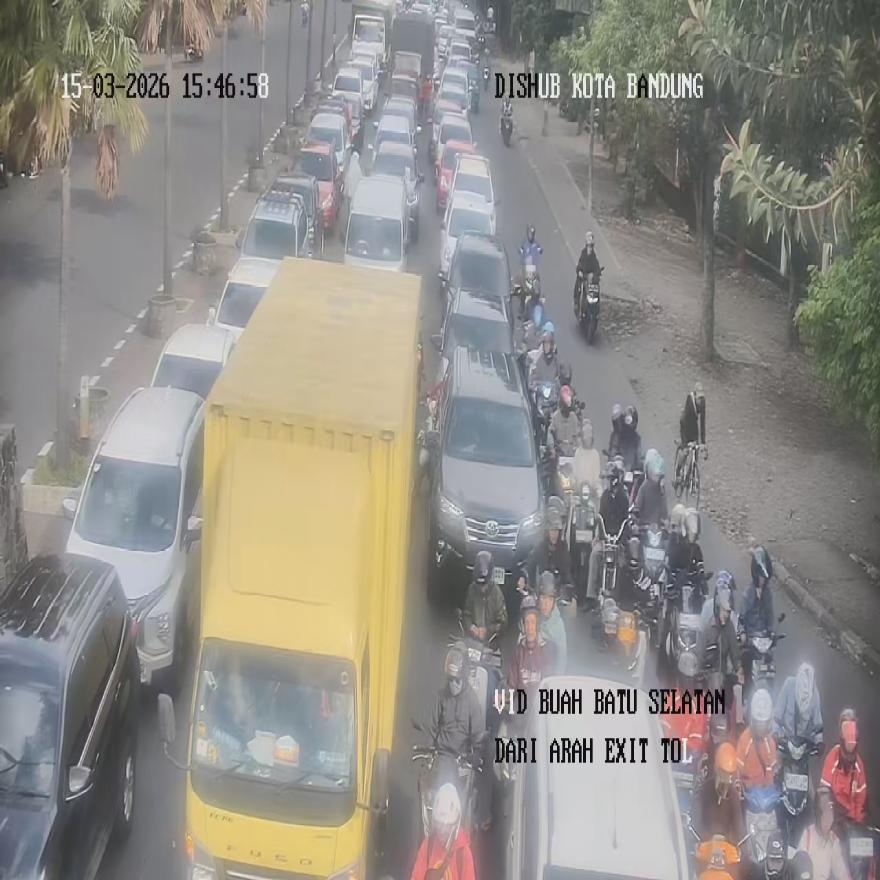Mobil: (0, 554, 140, 878), (61, 386, 204, 691), (503, 674, 694, 878), (424, 344, 544, 602), (206, 254, 280, 347)
Motor: (410, 717, 483, 879), (447, 606, 502, 735), (658, 567, 712, 688), (776, 736, 820, 853), (591, 596, 645, 682), (739, 614, 785, 712), (741, 781, 783, 880), (682, 813, 740, 880), (567, 481, 598, 602), (531, 380, 558, 496), (590, 514, 622, 608), (839, 821, 878, 880), (577, 266, 602, 344), (517, 243, 541, 323), (673, 440, 700, 510), (500, 111, 513, 147), (300, 1, 308, 28)
Truk menengah: (157, 257, 424, 875)
